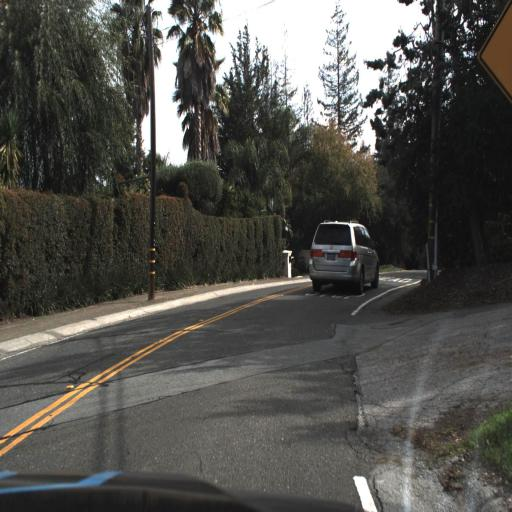car: (292, 218, 388, 296)
